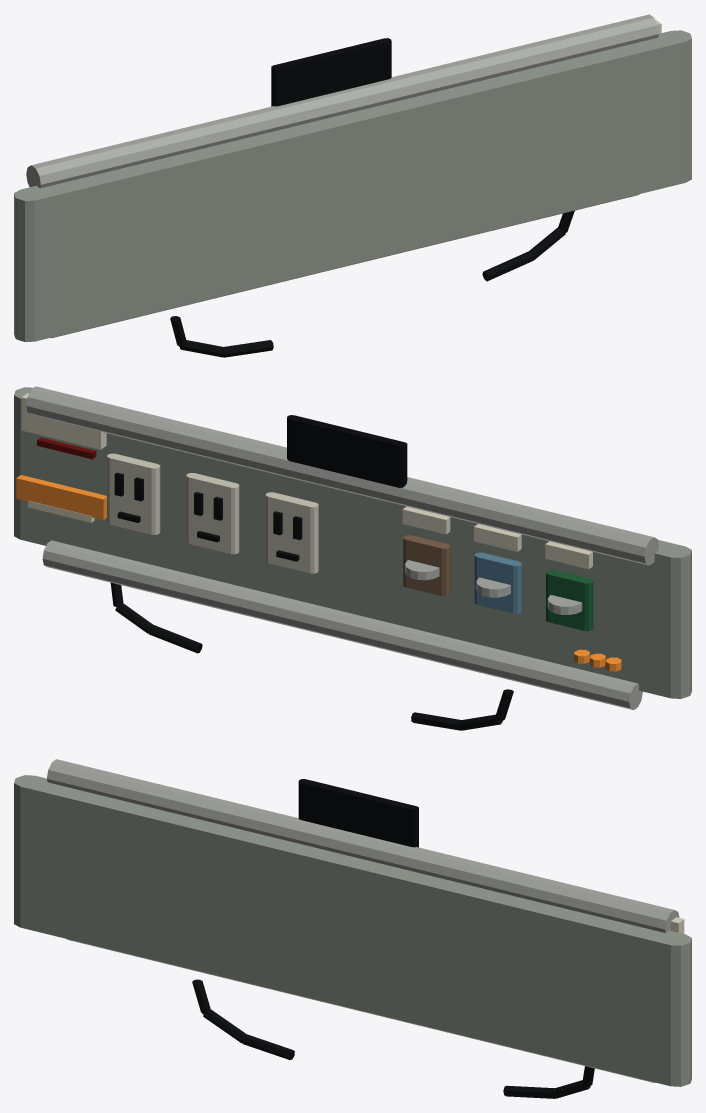
The model's file is medical_headwall.obj.
3 views of the same model, one above another, from view 1: azimuth 30°, elevation 25°; view 2: azimuth 150°, elevation 25°; view 3: azimuth 330°, elevation 25° (orthographic).
Parts seen in each view (by area): view 1: ward_medical_headwall; view 2: ward_medical_headwall; view 3: ward_medical_headwall.
Boxes of the visible parts, left/top/right/bottom form: ward_medical_headwall: left=14, top=14, right=691, bottom=357; ward_medical_headwall: left=14, top=386, right=691, bottom=730; ward_medical_headwall: left=14, top=759, right=691, bottom=1098.
Size of the model in its own units: 1.7 by 0.6717 by 0.1455.
